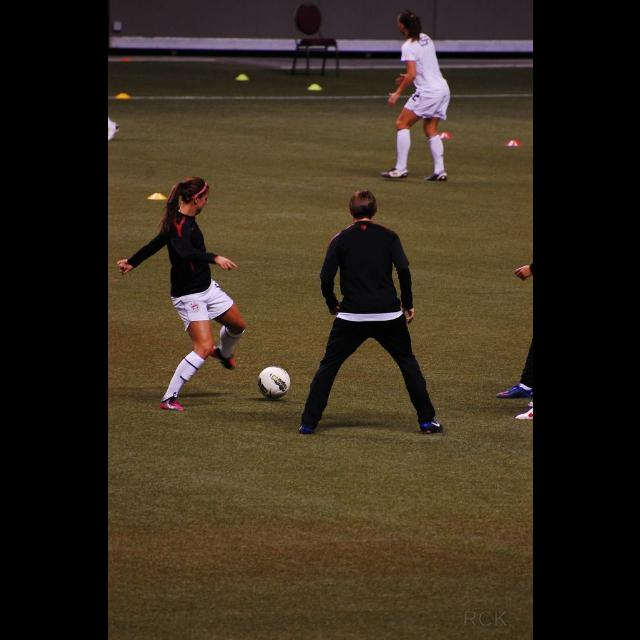Football: (256, 364, 290, 398)
